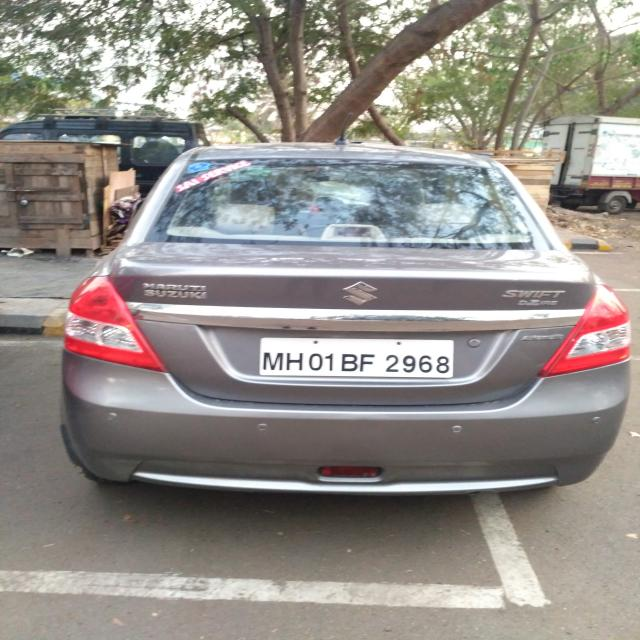Number-Plate: (262, 339, 461, 381)
